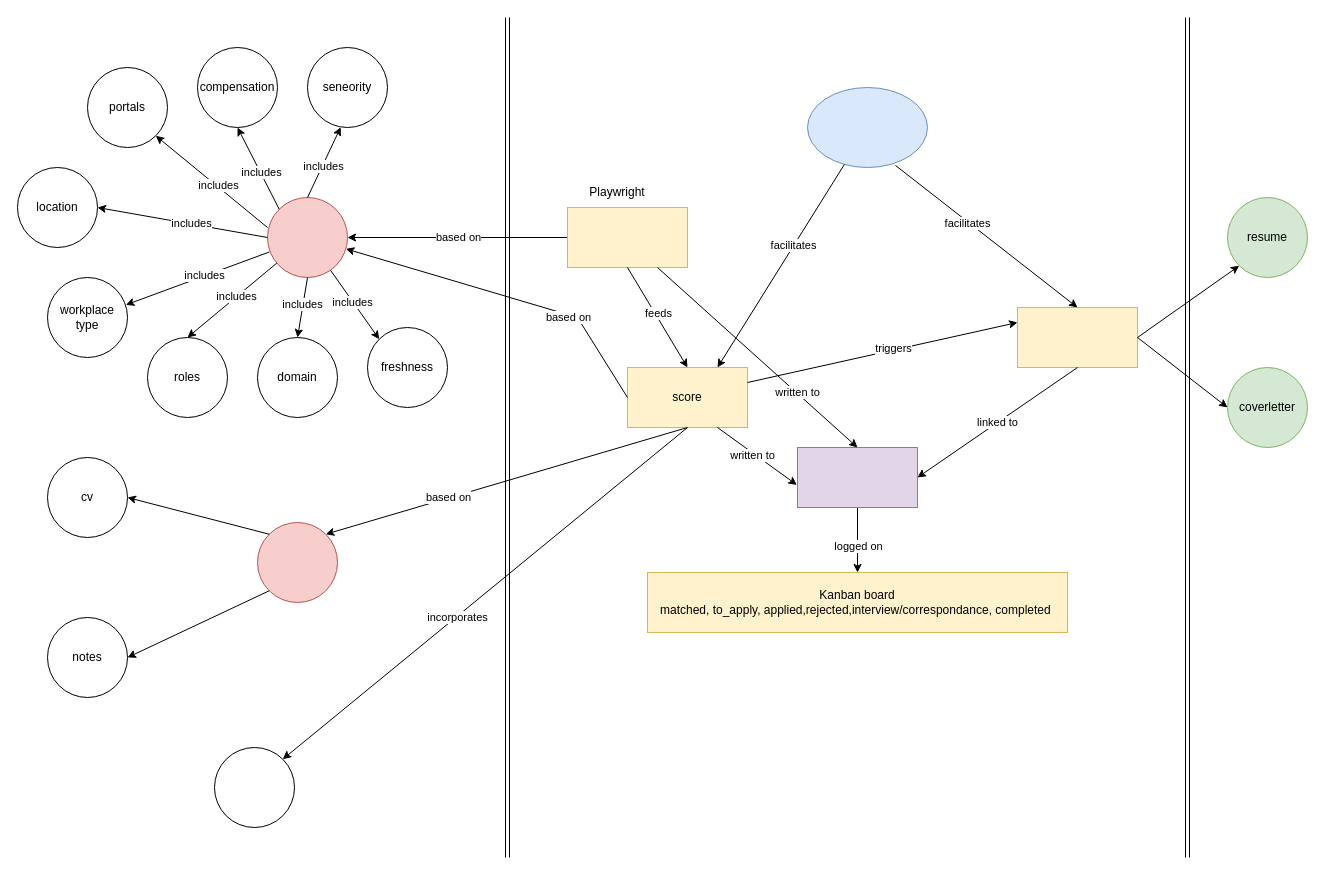
Image size: 1325x875. Some labels were removed from this diagram. Each missing label, with the box of its shape:
artifact generation: (1016, 306, 1138, 368)
card: (796, 446, 918, 508)
feedback: (214, 746, 294, 828)
LLM agent: (806, 86, 928, 168)
search: (566, 206, 688, 268)
user preference: (266, 196, 348, 278)
user profile: (256, 522, 338, 602)
